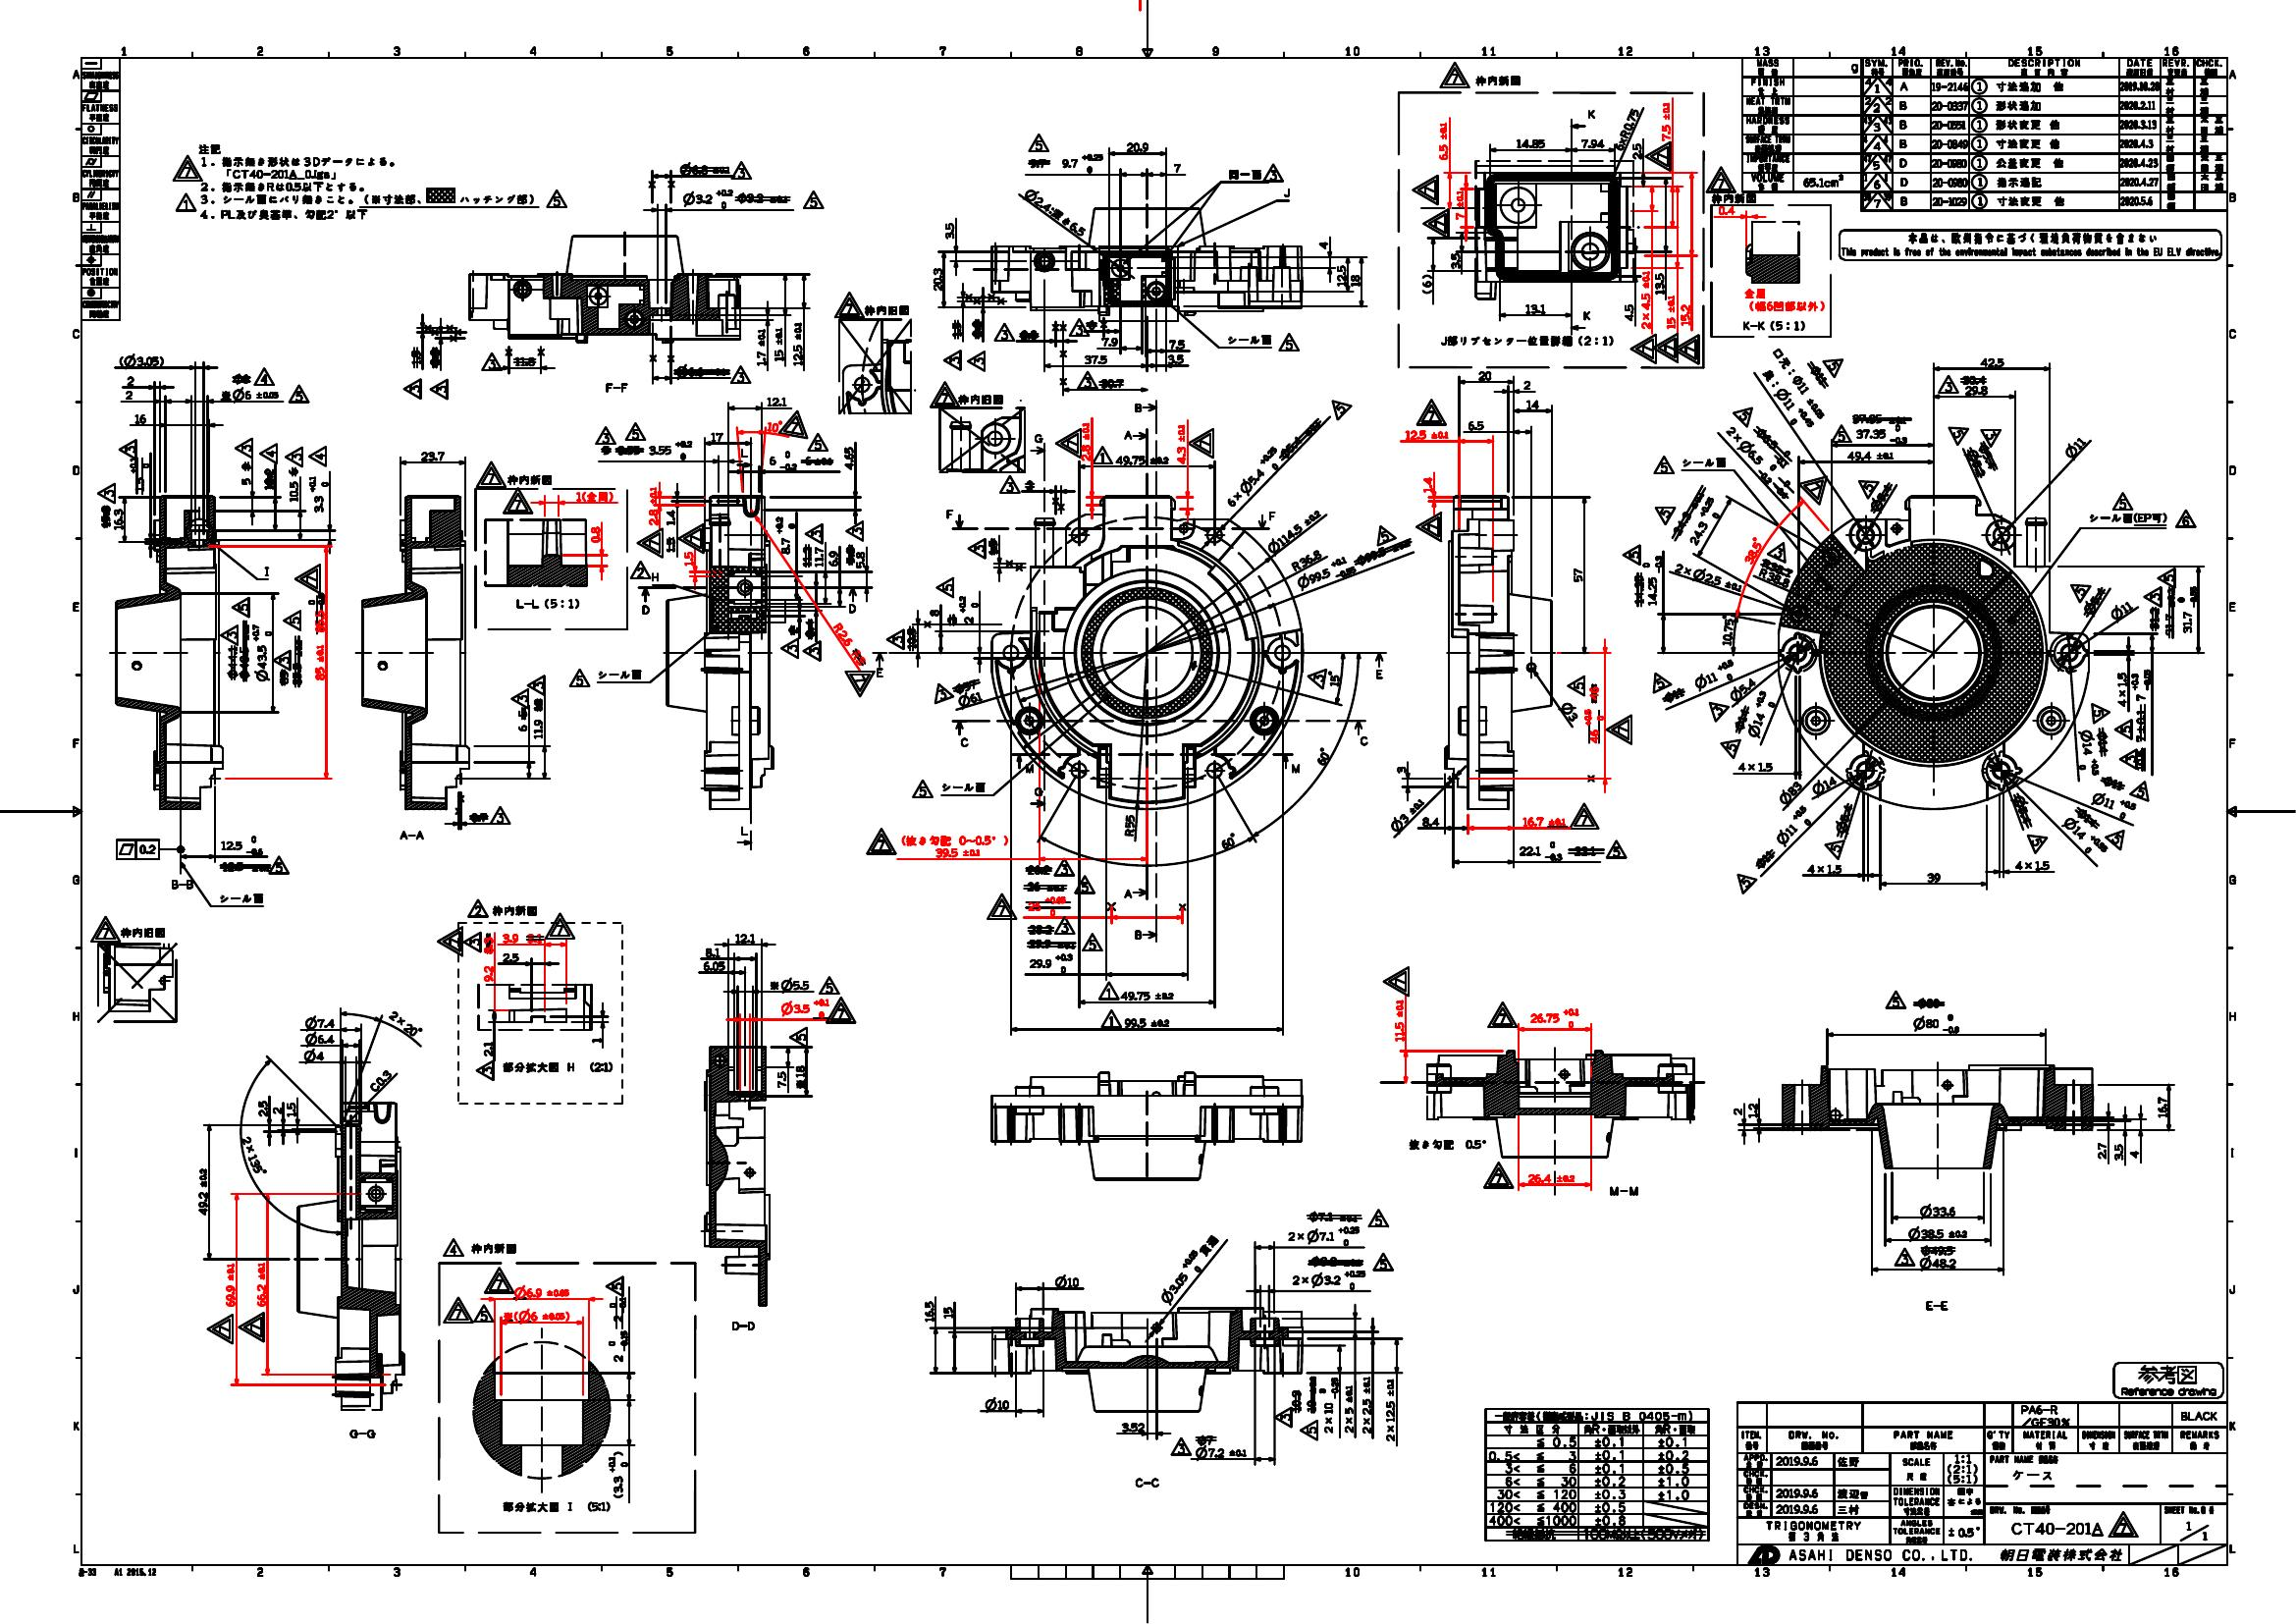anntotation_text: (172, 144, 569, 223), (1836, 228, 2224, 262), (2113, 1360, 2224, 1399), (1439, 60, 1521, 90), (833, 290, 908, 320), (1439, 334, 1614, 346), (929, 381, 1005, 410), (1744, 288, 1825, 311), (502, 1060, 613, 1076), (502, 1501, 611, 1515), (1407, 1135, 1488, 1153), (2089, 510, 2168, 526), (1226, 162, 1284, 183), (675, 520, 708, 555), (1412, 395, 1449, 427), (632, 526, 666, 559), (202, 1311, 235, 1345), (864, 824, 899, 856), (1381, 961, 1411, 998), (290, 559, 321, 592), (545, 910, 578, 942), (432, 923, 464, 956), (513, 594, 580, 610), (984, 893, 1019, 923), (1479, 1160, 1514, 1190), (114, 838, 160, 861), (1602, 714, 1634, 745), (1412, 510, 1442, 543), (502, 485, 536, 515), (481, 1265, 515, 1295), (1704, 165, 1739, 193), (439, 1295, 474, 1323), (1409, 172, 1439, 204), (1186, 427, 1216, 459), (824, 995, 856, 1025), (235, 1311, 265, 1343), (1484, 1000, 1518, 1028), (845, 668, 875, 698), (1651, 332, 1679, 364), (1644, 141, 1672, 172), (1628, 332, 1657, 364), (474, 460, 506, 489), (90, 916, 121, 944), (1799, 475, 1827, 506), (1674, 332, 1700, 366), (1421, 209, 1451, 237), (1054, 427, 1080, 459), (1569, 801, 1600, 828), (1743, 320, 1808, 332), (780, 410, 806, 439), (1224, 332, 1272, 348), (467, 1241, 518, 1255), (119, 926, 169, 940), (940, 780, 987, 794), (596, 668, 643, 682), (1765, 540, 1792, 564), (908, 777, 935, 801), (399, 374, 423, 401), (1370, 1250, 1397, 1274), (504, 471, 550, 485), (2025, 831, 2050, 856), (423, 374, 448, 399), (882, 626, 906, 650), (490, 903, 539, 916), (1096, 1007, 1123, 1030), (841, 518, 864, 545), (218, 893, 265, 905), (2112, 717, 2134, 742), (1706, 700, 1730, 722), (1620, 541, 1643, 566), (566, 666, 590, 689), (805, 431, 829, 453), (776, 634, 799, 659), (801, 638, 824, 663), (286, 381, 311, 404), (232, 434, 255, 459), (230, 594, 253, 619), (265, 852, 290, 875), (441, 1236, 466, 1258), (1892, 1246, 1917, 1269), (1072, 874, 1098, 895), (1094, 981, 1121, 1002), (478, 350, 504, 371), (251, 366, 278, 387), (1822, 355, 1850, 374), (344, 1425, 378, 1441), (1026, 130, 1049, 153), (964, 350, 987, 373), (964, 538, 987, 561), (933, 575, 956, 598), (1936, 373, 1959, 395), (2117, 749, 2140, 772), (1563, 673, 1586, 696), (523, 673, 546, 696), (283, 445, 306, 468), (306, 445, 329, 468), (787, 1025, 810, 1048), (1296, 1418, 1319, 1441), (801, 188, 826, 209), (1275, 330, 1300, 352), (1325, 395, 1349, 417), (1066, 316, 1091, 337), (1830, 424, 1855, 445), (2110, 490, 2134, 511), (2173, 508, 2198, 529), (1978, 427, 2003, 448), (1857, 478, 1881, 499), (2155, 566, 2177, 591), (2127, 780, 2152, 801), (1734, 874, 1758, 895), (1716, 738, 1741, 759), (1052, 914, 1077, 935), (729, 362, 754, 383), (279, 608, 304, 629), (272, 647, 293, 671), (817, 974, 841, 995), (1272, 1404, 1293, 1429), (1883, 990, 1908, 1011), (1602, 838, 1627, 859), (942, 350, 963, 373), (1651, 453, 1674, 475), (1681, 457, 1727, 468), (2103, 828, 2124, 851), (1823, 838, 1846, 859), (1650, 671, 1672, 692), (509, 685, 531, 708), (624, 420, 646, 441), (629, 557, 650, 580), (258, 441, 279, 464), (116, 438, 139, 459), (95, 482, 116, 504), (216, 622, 239, 643), (462, 930, 483, 953), (473, 1060, 495, 1081), (604, 1272, 625, 1295), (1075, 371, 1100, 390), (996, 475, 1021, 494), (1307, 666, 1326, 691), (1080, 933, 1105, 953), (1166, 1436, 1191, 1455), (1365, 1209, 1390, 1229), (1606, 1185, 1639, 1199), (1655, 504, 1676, 526), (594, 424, 615, 445), (803, 522, 824, 543), (933, 682, 954, 703), (993, 323, 1015, 343), (1734, 404, 1757, 424), (2069, 584, 2092, 603), (2090, 701, 2110, 724), (1052, 858, 1075, 877), (488, 805, 511, 824), (469, 896, 488, 919), (729, 1318, 755, 1334), (729, 160, 750, 179), (1374, 524, 1395, 543), (1948, 425, 1967, 446), (2143, 585, 2162, 606), (473, 1302, 494, 1322), (1711, 193, 1757, 202), (1091, 446, 1114, 464), (397, 828, 425, 842), (1133, 1476, 1159, 1489), (1924, 1299, 1950, 1311), (169, 877, 193, 889), (603, 381, 629, 392), (1121, 427, 1135, 443), (1585, 105, 1597, 121), (1121, 886, 1133, 902), (1356, 735, 1368, 749), (262, 562, 271, 580), (1022, 763, 1035, 775), (648, 571, 661, 584), (1289, 763, 1302, 775), (847, 601, 857, 615), (875, 666, 885, 680), (738, 824, 748, 838), (738, 446, 748, 460), (1133, 401, 1144, 415), (1581, 311, 1592, 323), (1033, 432, 1043, 445), (1374, 668, 1384, 680), (1031, 786, 1042, 798), (959, 736, 970, 747), (1267, 510, 1275, 522), (1133, 928, 1142, 940), (641, 603, 650, 615), (945, 508, 954, 518)
dimension_text: (1147, 1257, 1235, 1280), (1744, 392, 1832, 413), (1289, 1267, 1367, 1290), (1284, 1223, 1360, 1246), (1711, 439, 1785, 462), (898, 833, 1007, 847), (249, 622, 274, 684), (1291, 562, 1356, 585), (1908, 1011, 1964, 1035), (1316, 1376, 1339, 1434), (1639, 554, 1664, 606), (1026, 951, 1075, 977), (1676, 510, 1730, 533), (1755, 376, 1843, 390), (1017, 204, 1093, 220), (680, 190, 736, 211), (1525, 1007, 1581, 1028), (1217, 473, 1284, 490), (1671, 569, 1744, 585), (2075, 728, 2097, 779), (2177, 584, 2199, 634), (778, 995, 829, 1018), (1853, 422, 1908, 443), (2057, 826, 2110, 847), (1260, 522, 1330, 538), (1059, 149, 1107, 172), (648, 439, 696, 462), (502, 1308, 571, 1323), (606, 1450, 629, 1497), (1906, 1225, 1967, 1243), (1734, 703, 1785, 724), (2087, 796, 2138, 817), (511, 1283, 571, 1301), (1383, 1376, 1398, 1441), (220, 833, 264, 856), (1516, 840, 1563, 861), (306, 473, 330, 513), (773, 513, 796, 555), (1692, 664, 1739, 684), (232, 385, 279, 404), (1383, 805, 1432, 823), (1358, 1374, 1372, 1436), (1193, 1445, 1247, 1461), (1773, 817, 1816, 837), (1121, 1016, 1173, 1032), (643, 485, 662, 527), (1917, 1253, 1959, 1272), (193, 1165, 209, 1216), (2129, 666, 2152, 701), (1119, 988, 1173, 1002), (606, 1329, 629, 1362), (1639, 269, 1651, 330), (1404, 425, 1451, 441), (116, 352, 163, 367), (957, 592, 980, 624), (766, 448, 798, 471), (221, 1262, 237, 1308), (1602, 121, 1653, 135), (766, 975, 810, 991), (1342, 1383, 1356, 1432), (1527, 1171, 1576, 1185), (1918, 1202, 1957, 1220), (1843, 448, 1897, 460), (1116, 453, 1170, 466), (573, 489, 615, 504), (255, 1260, 269, 1308), (311, 642, 327, 682), (931, 845, 980, 858), (754, 325, 768, 367), (1757, 571, 1794, 587), (230, 1149, 278, 1162), (2011, 858, 2052, 872), (791, 320, 803, 366), (1521, 816, 1567, 828), (304, 1014, 336, 1032), (386, 1016, 425, 1030), (1175, 422, 1188, 466), (1080, 420, 1093, 464), (1774, 784, 1808, 800), (1736, 759, 1773, 773), (1718, 615, 1734, 647), (304, 1030, 336, 1046), (1289, 554, 1325, 568), (1052, 1272, 1080, 1290), (1393, 998, 1404, 1044), (1664, 292, 1676, 330), (1729, 680, 1758, 696), (1809, 775, 1839, 791), (791, 1062, 806, 1091), (982, 1396, 1008, 1413), (771, 325, 783, 362), (1806, 861, 1843, 874), (302, 1046, 325, 1065), (2155, 1095, 2173, 1120), (1437, 121, 1448, 162), (1660, 100, 1671, 141), (1514, 135, 1548, 148), (1736, 543, 1769, 555), (1314, 743, 1332, 766), (1962, 383, 1990, 397), (2061, 439, 2089, 453), (1453, 188, 1465, 220), (2115, 670, 2126, 707), (2110, 601, 2134, 617), (529, 717, 545, 742), (929, 265, 943, 292), (1678, 302, 1692, 329), (1123, 814, 1137, 840), (957, 691, 984, 705), (841, 445, 856, 471), (365, 1074, 395, 1086), (1217, 833, 1240, 849), (480, 961, 495, 984), (733, 928, 755, 944), (1084, 352, 1108, 366), (1333, 262, 1347, 286), (1523, 302, 1548, 316), (701, 958, 726, 972), (850, 548, 866, 569), (1124, 139, 1151, 151), (1978, 355, 2004, 367), (418, 450, 444, 462), (1419, 271, 1433, 294), (1581, 135, 1604, 149), (588, 524, 603, 547), (764, 417, 783, 432), (480, 1039, 495, 1058), (2110, 1141, 2126, 1160), (111, 506, 123, 531), (1121, 1420, 1145, 1432), (1715, 202, 1736, 216), (1326, 668, 1340, 689), (766, 394, 787, 408), (2094, 1139, 2108, 1160), (1558, 705, 1581, 717), (286, 478, 299, 501), (922, 1301, 935, 1323), (283, 1100, 299, 1118), (942, 220, 956, 239), (1446, 250, 1460, 269), (1419, 475, 1433, 494), (826, 547, 840, 566), (255, 1098, 269, 1118), (1653, 271, 1664, 295), (499, 951, 520, 963), (2126, 1146, 2141, 1162), (1924, 868, 1941, 882), (1467, 417, 1484, 431), (1523, 397, 1541, 411), (682, 548, 696, 566), (1729, 1104, 1746, 1118), (1630, 139, 1641, 162), (813, 545, 824, 568), (1621, 302, 1634, 322), (662, 506, 675, 526), (703, 946, 722, 958), (775, 1069, 787, 1088), (1746, 1100, 1758, 1120), (1100, 336, 1121, 346), (1570, 566, 1585, 582), (708, 429, 724, 443), (1166, 337, 1186, 348), (1419, 816, 1439, 826), (1349, 272, 1363, 286), (940, 1304, 954, 1318), (1476, 369, 1491, 381), (1166, 353, 1184, 364), (926, 606, 940, 619), (516, 719, 529, 733), (132, 411, 146, 424), (271, 1102, 283, 1116), (125, 374, 137, 387), (239, 476, 253, 487), (588, 1035, 603, 1046), (1393, 763, 1405, 773), (1521, 378, 1532, 390), (123, 388, 134, 401), (1172, 162, 1182, 172)
object: (989, 494, 1305, 810), (1776, 494, 2090, 810), (664, 492, 787, 810), (987, 1069, 1305, 1183), (1442, 492, 1555, 810), (360, 494, 471, 810), (112, 494, 223, 810), (295, 1100, 408, 1411), (1780, 1062, 2094, 1171), (989, 1306, 1303, 1413), (466, 232, 741, 344), (1425, 1053, 1697, 1160), (989, 243, 1305, 322), (1472, 160, 1639, 301), (469, 1341, 613, 1480), (701, 1044, 773, 1309), (483, 517, 588, 587), (840, 320, 912, 415), (474, 982, 594, 1032), (98, 942, 174, 1014), (949, 408, 1026, 473), (1743, 220, 1802, 286)
title_block: (1736, 1401, 2227, 1566), (1739, 54, 2229, 213), (1483, 1408, 1709, 1541), (79, 54, 121, 322)
